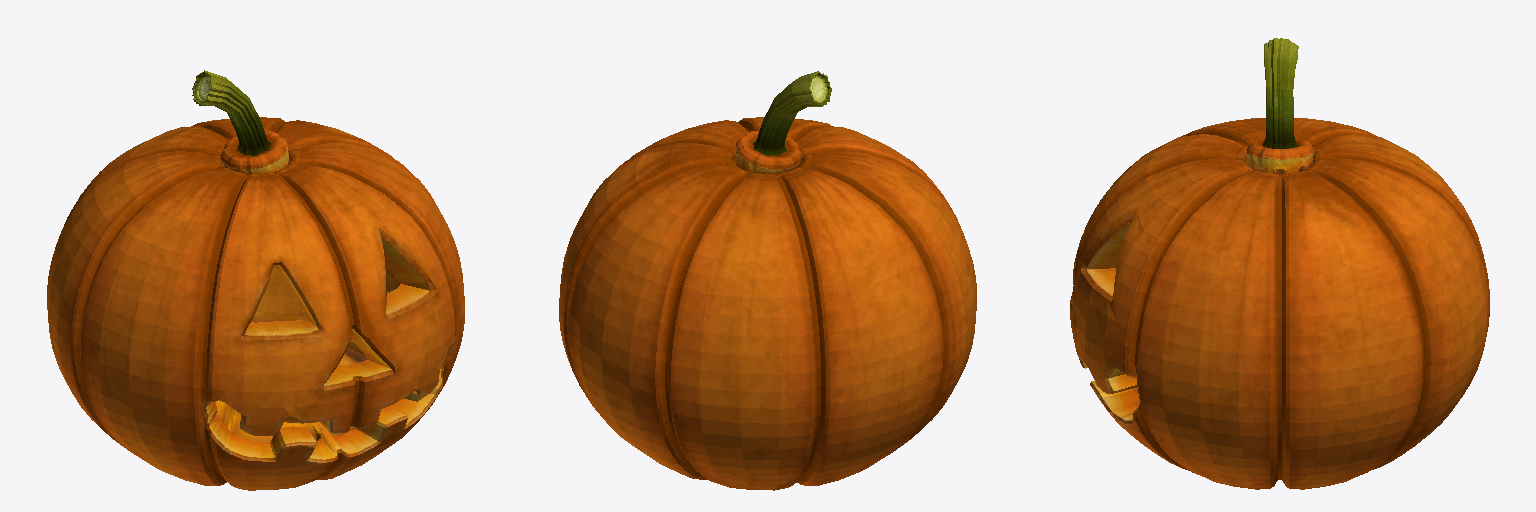
3 renders of one model, left to right at view 1: azimuth 30°, elevation 25°; view 2: azimuth 150°, elevation 25°; view 3: azimuth 270°, elevation 25°, orthographic.
Parts seen in each view (by area): view 1: PRP_Pumpkin_01, PRP_Pumpkin_steam_01; view 2: PRP_Pumpkin_01, PRP_Pumpkin_steam_01; view 3: PRP_Pumpkin_01, PRP_Pumpkin_steam_01.
Boxes of the visible parts, x1,y1,x2,y2 form: PRP_Pumpkin_01: [47, 117, 464, 490]; PRP_Pumpkin_steam_01: [192, 70, 288, 173]; PRP_Pumpkin_01: [559, 117, 976, 490]; PRP_Pumpkin_steam_01: [735, 71, 831, 173]; PRP_Pumpkin_01: [1070, 118, 1489, 489]; PRP_Pumpkin_steam_01: [1247, 38, 1313, 174].
Bounding box in the file's own units: 2.1 × 2.16 × 2.11.
Materials: 1 (1 with a texture image).